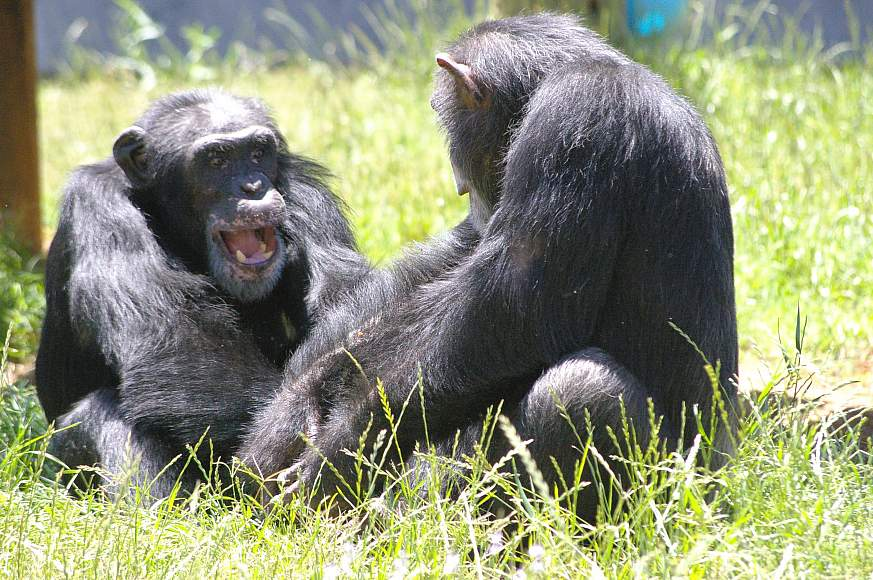Chimpanzee: (401, 18, 749, 498), (37, 73, 374, 477)
